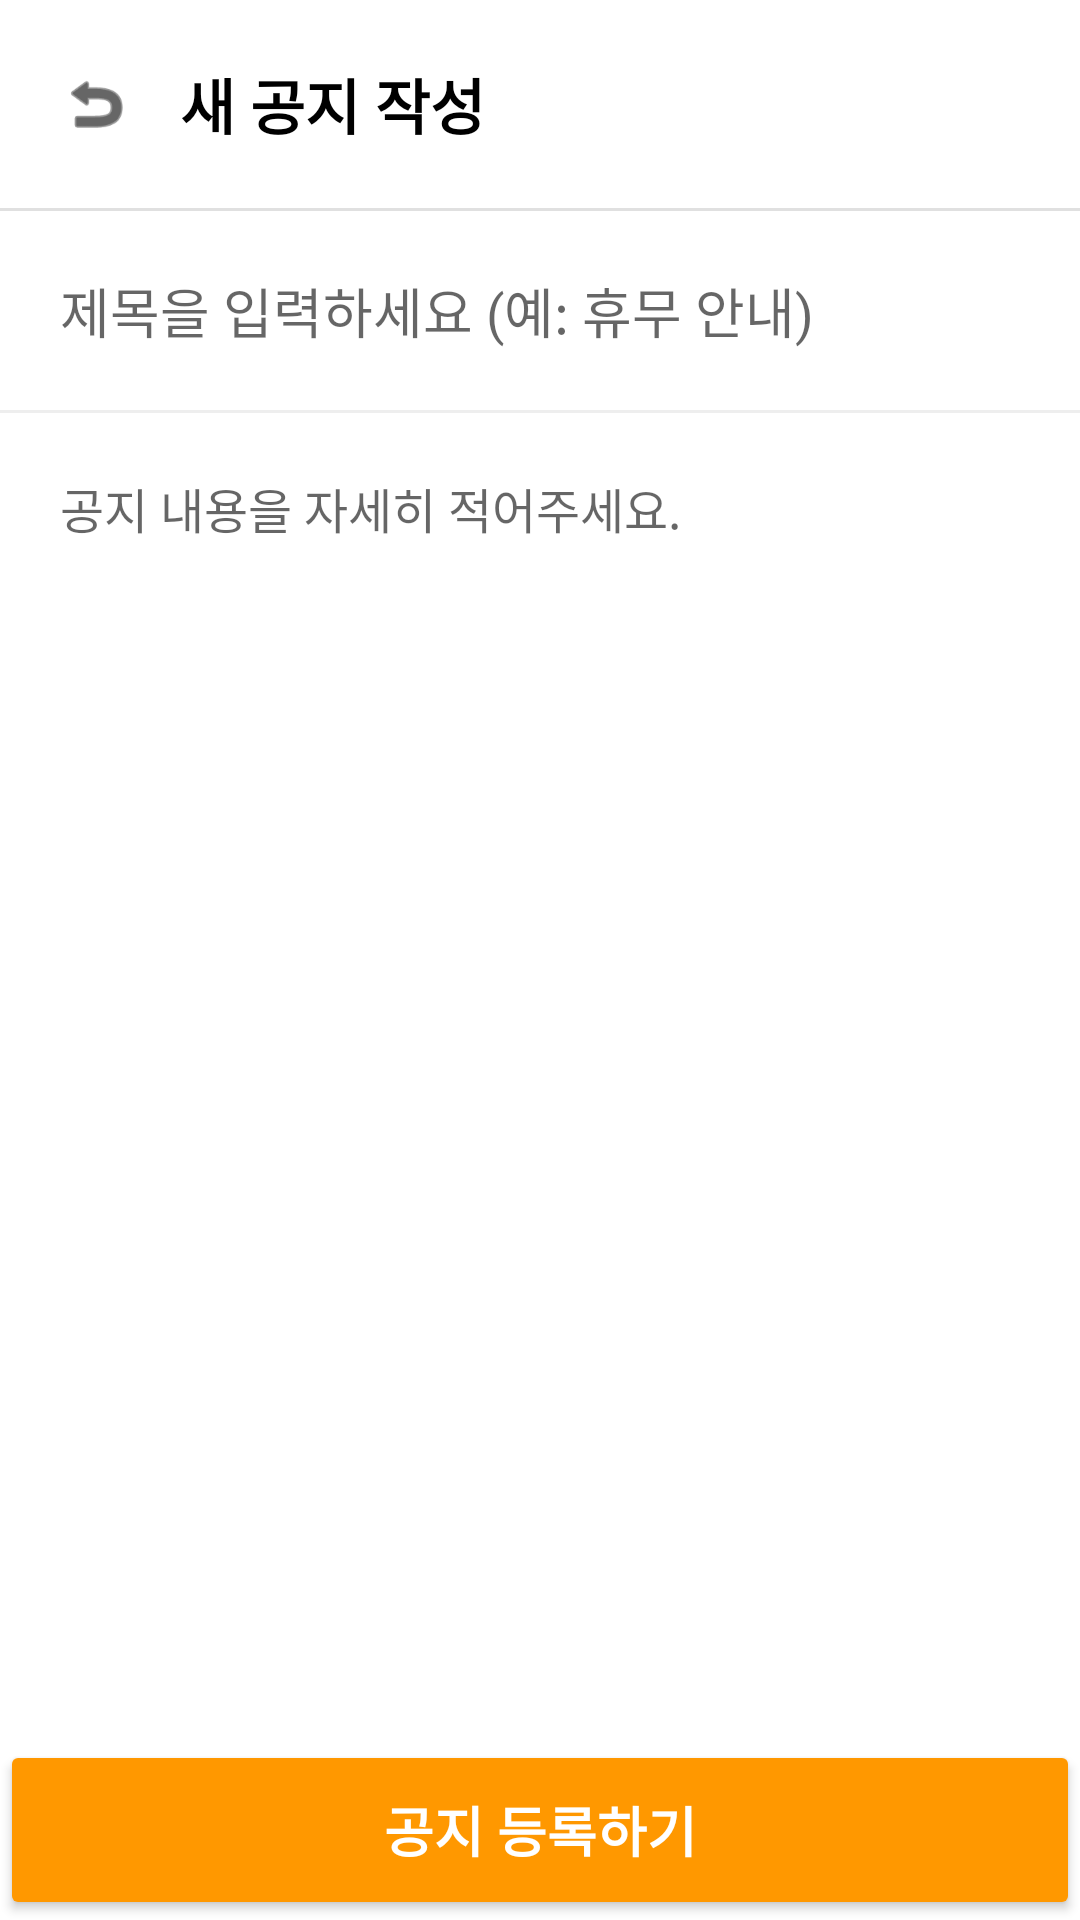

Icons on this 1080 x 1920 Android screen, each with its box as rect(x1, y1, x2, y2):
revert: rect(71, 81, 123, 128)
